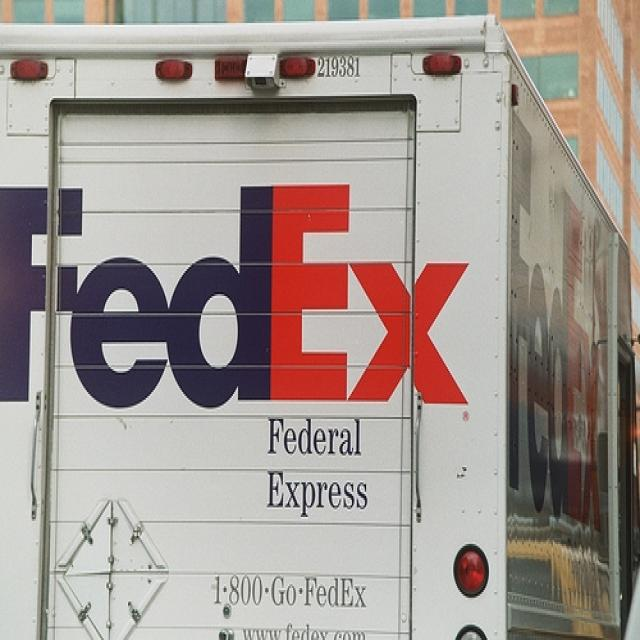fedex: (2, 176, 476, 412)
